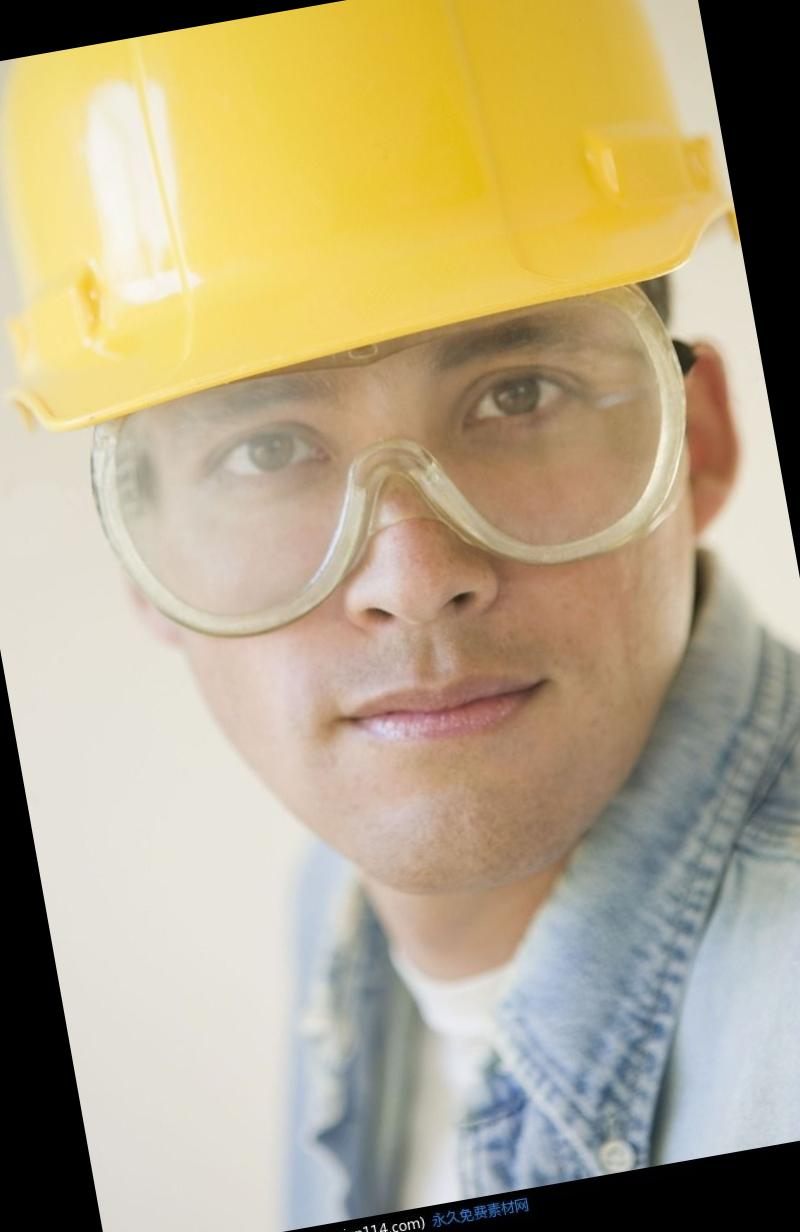helmet: (0, 0, 750, 453)
